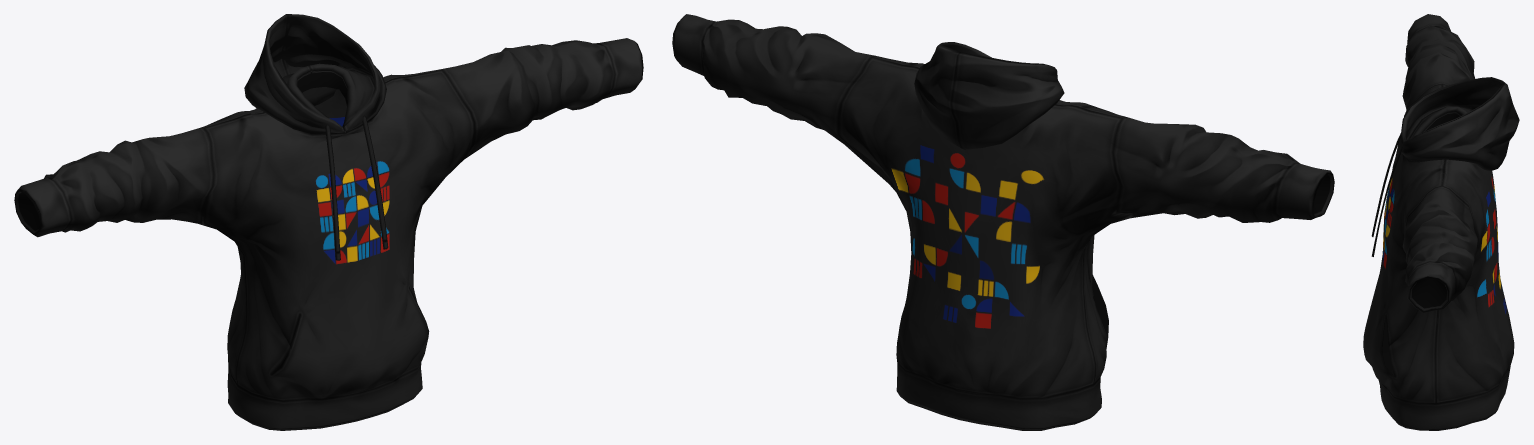
The model's file is 59_hoodie_t.glb.
3 views of the same model, side by side, from view 1: azimuth 30°, elevation 25°; view 2: azimuth 150°, elevation 25°; view 3: azimuth 270°, elevation 25° (orthographic). The views are drawn at different scales.
Parts seen in each view (by area): view 1: hoodie_tpose; view 2: hoodie_tpose; view 3: hoodie_tpose.
Part boxes in pixels (x1,y1,x2,y2): hoodie_tpose: (14,14,643,430); hoodie_tpose: (672,14,1334,430); hoodie_tpose: (1363,14,1519,430).
Bounding box in the file's own units: 1.56 × 0.867 × 0.3915.
1 material, 1 textured.
